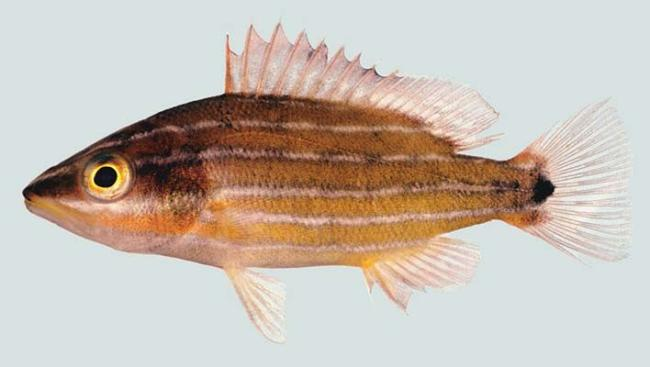fish: (21, 16, 632, 345)
